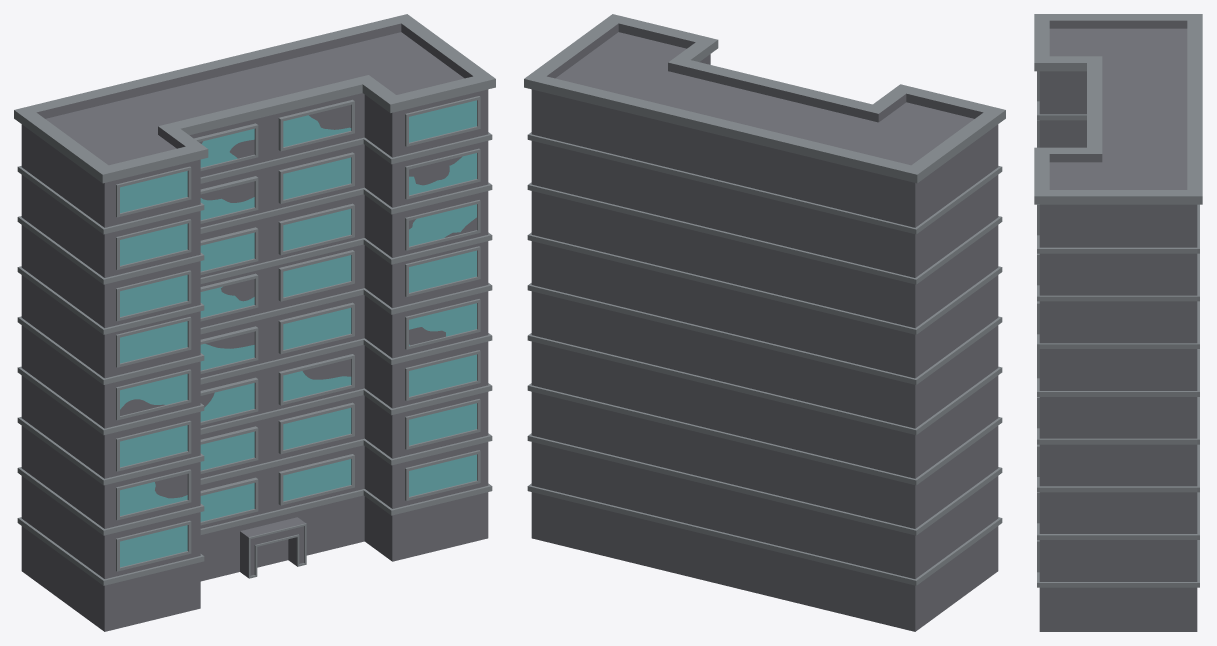
Rendered from Flat2_Kapot.fbx.
3 renders of one model, left to right at view 1: azimuth 30°, elevation 25°; view 2: azimuth 150°, elevation 25°; view 3: azimuth 270°, elevation 25°, orthographic. The views are drawn at different scales.
Visible parts, largest first — view 1: Flat2_Kapot; view 2: Flat2_Kapot; view 3: Flat2_Kapot.
Part boxes in pixels (bbox=[...]): Flat2_Kapot: bbox=[14, 14, 495, 631]; Flat2_Kapot: bbox=[524, 14, 1005, 631]; Flat2_Kapot: bbox=[1034, 14, 1202, 631].
Bounding box in the file's own units: 820 × 917 × 320.
